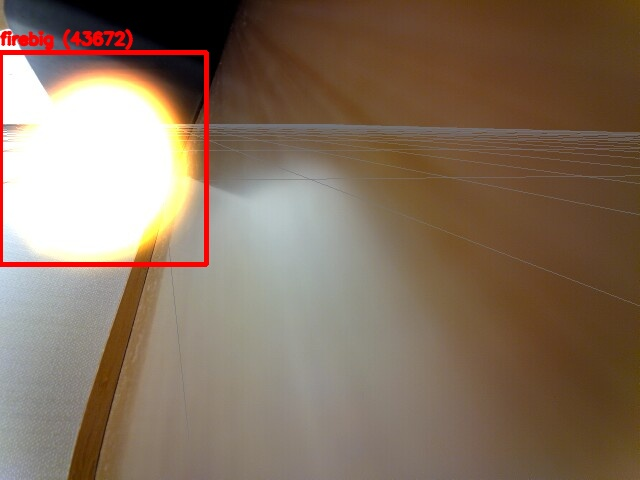firebig: (0, 52, 206, 264)
